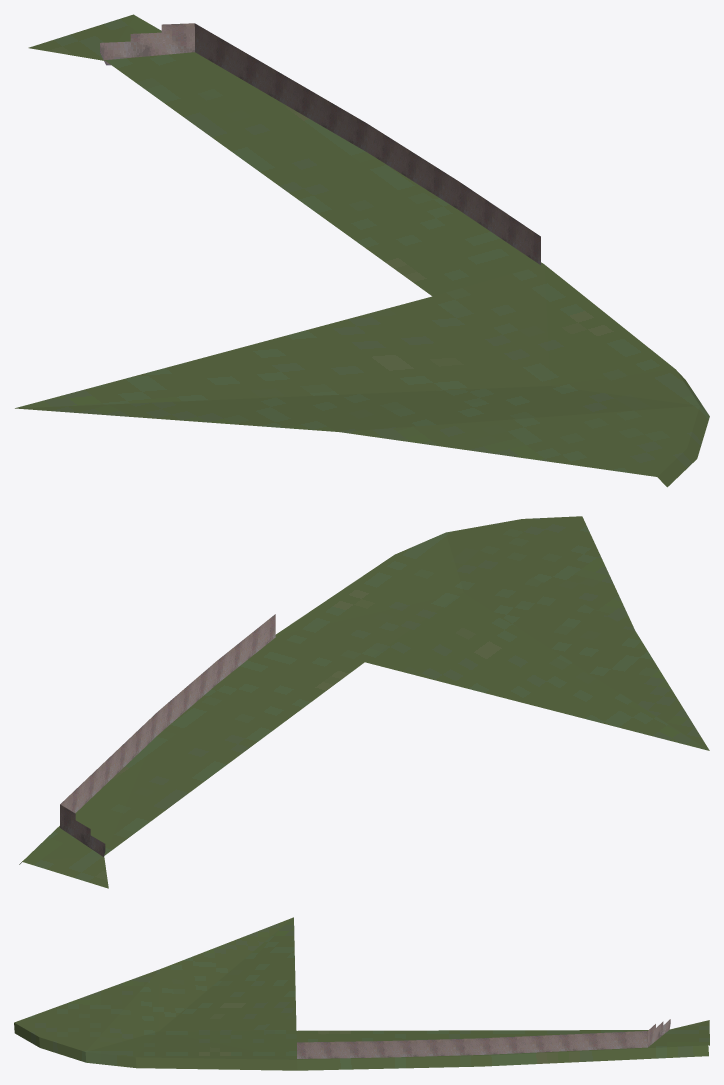
File: lodgrounds02_sfs.obj
The picture shows the model from 3 angles, top to bottom: view 1: azimuth 30°, elevation 25°; view 2: azimuth 150°, elevation 25°; view 3: azimuth 270°, elevation 25°; orthographic projection. The views are drawn at different scales.
Parts seen in each view (by area): view 1: LODgrounds02_SFS; view 2: LODgrounds02_SFS; view 3: LODgrounds02_SFS.
Boxes of the visible parts, left/top/right/bottom form: LODgrounds02_SFS: left=15, top=14, right=709, bottom=487; LODgrounds02_SFS: left=19, top=516, right=709, bottom=888; LODgrounds02_SFS: left=14, top=917, right=709, bottom=1070.
Size of the model in its own units: 68.14 by 5.07 by 131.
2 materials, 2 textured.
